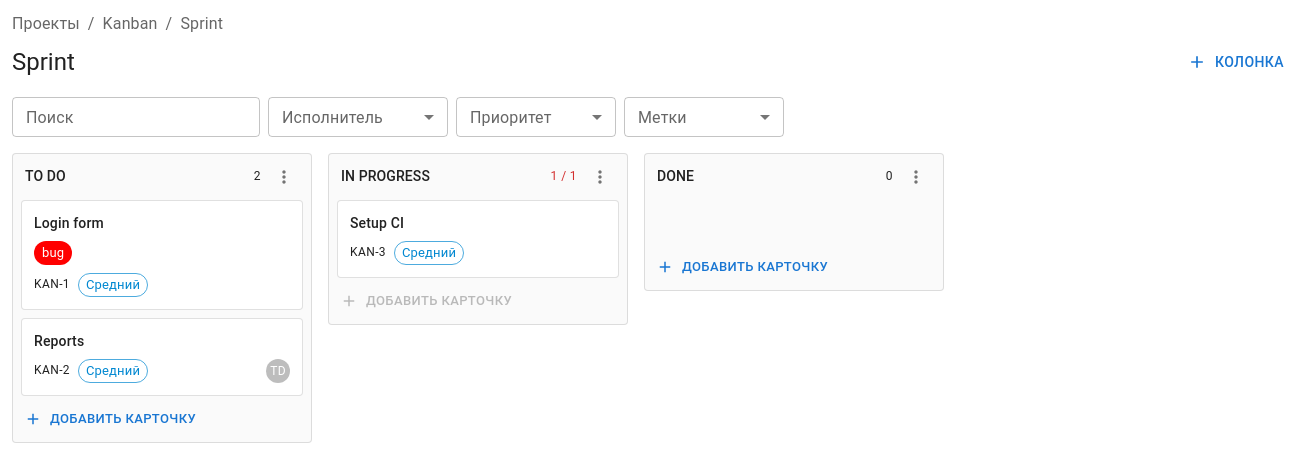
BoardPage › TC-05: не создаёт карточку с пустым названием
This screenshot has width=1304, height=460.
Click the button with aria-label "Добавить карточку в колонку Done" at [794, 267], box [653,252,935,282]
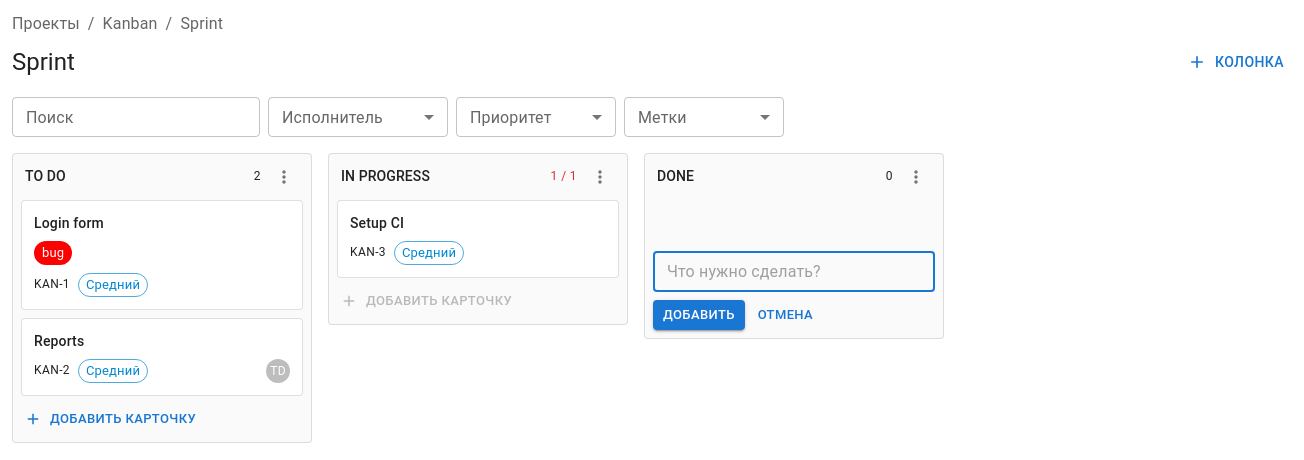
Click the button "Добавить" at [699, 315], box [653,300,745,330]
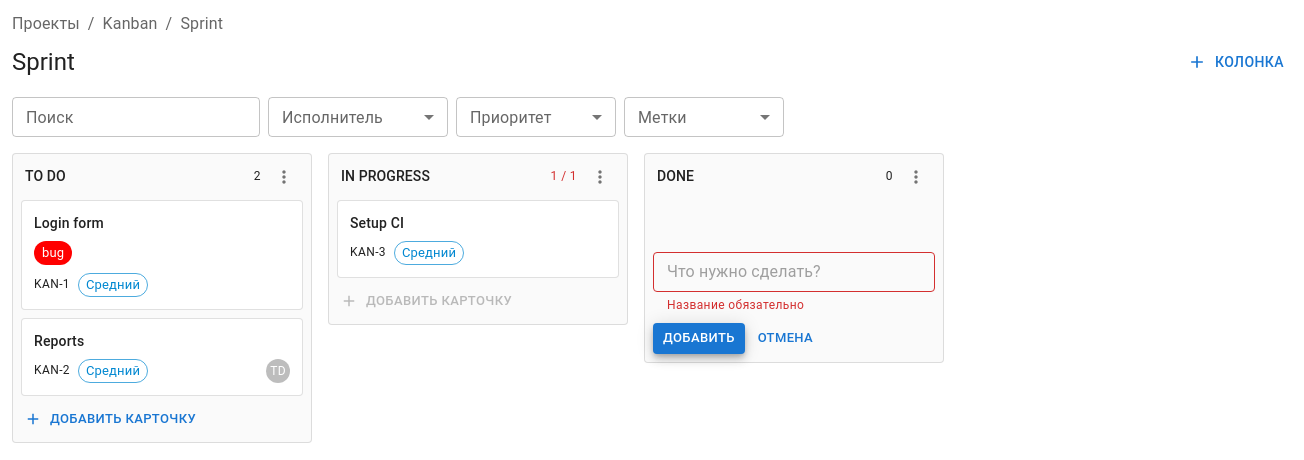
expect the text "Название обязательно" is shown: met, box [667,298,804,312]
